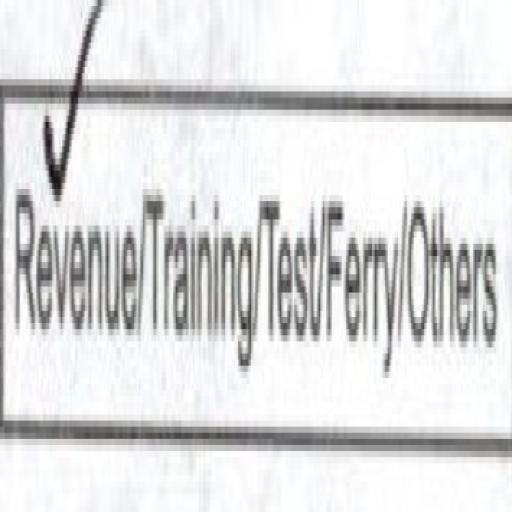check: (0, 0, 142, 457)
